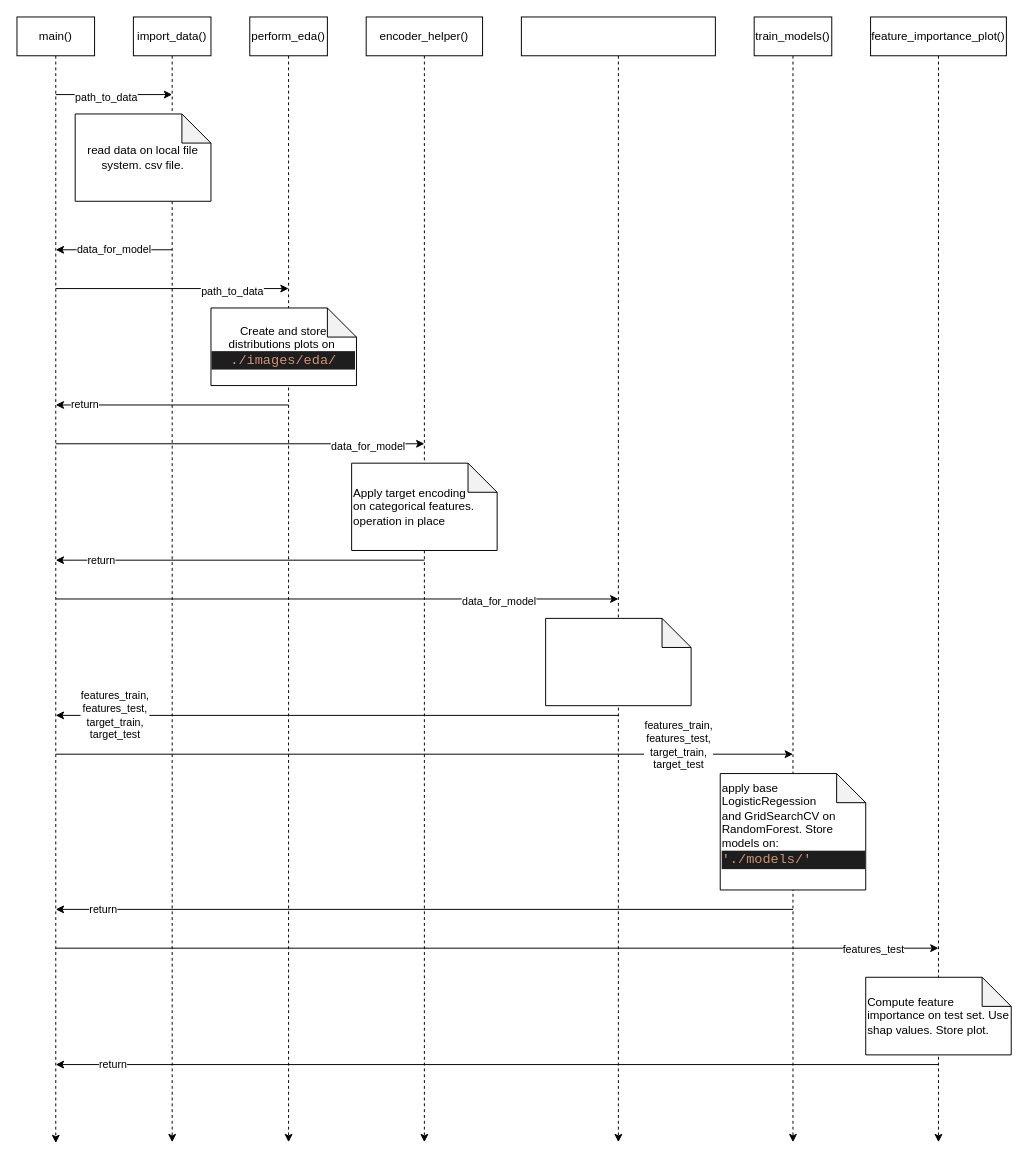
The diagram is 1028 pixels wide and 1168 high, and some of its shapes have lost their labels. Here are the shapes that lost their labels. From the top down, the centre of each, then its label:
At (617,36): "perform_feature_engineering()".
At (618,661): "Select columns to learn from, split input data into training and testing.".
